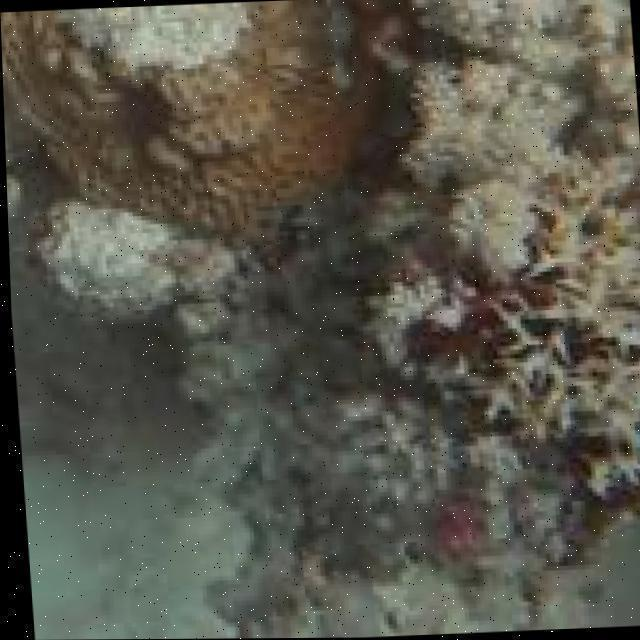Bleached Coral: (404, 14, 640, 220), (510, 245, 640, 506), (25, 193, 239, 313), (51, 15, 254, 68)
